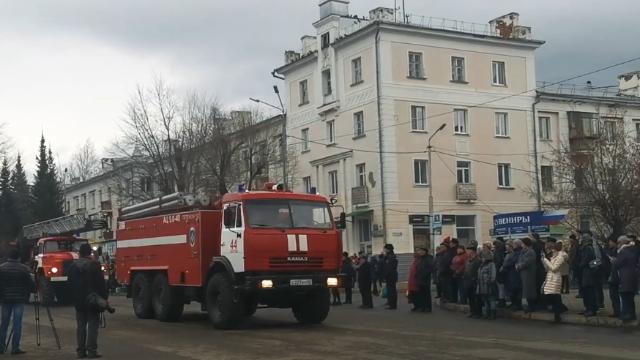fire fighting vehicle: (118, 186, 342, 328), (19, 212, 112, 307)
